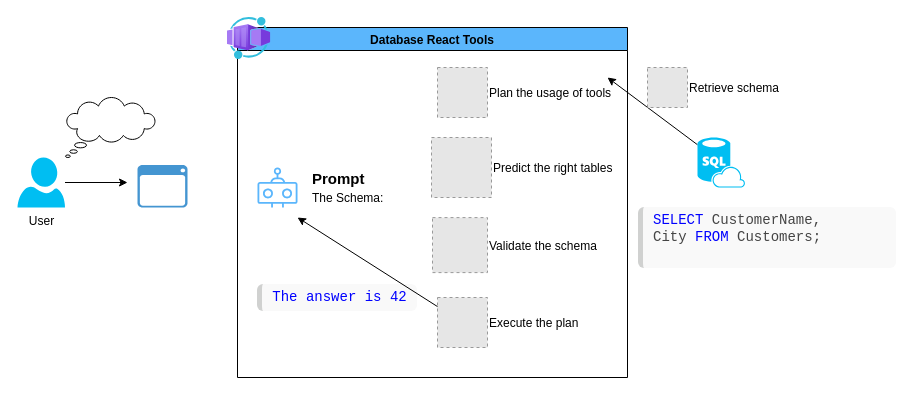
This 914x395 diagram has some shape labels left out. Grey dashed boxes stand in for pictures. Here are the shapes that lost their labels. From the top down, the centre of each, then its label:
At point 110,127: "Question".
At point 162,186: "UI".
